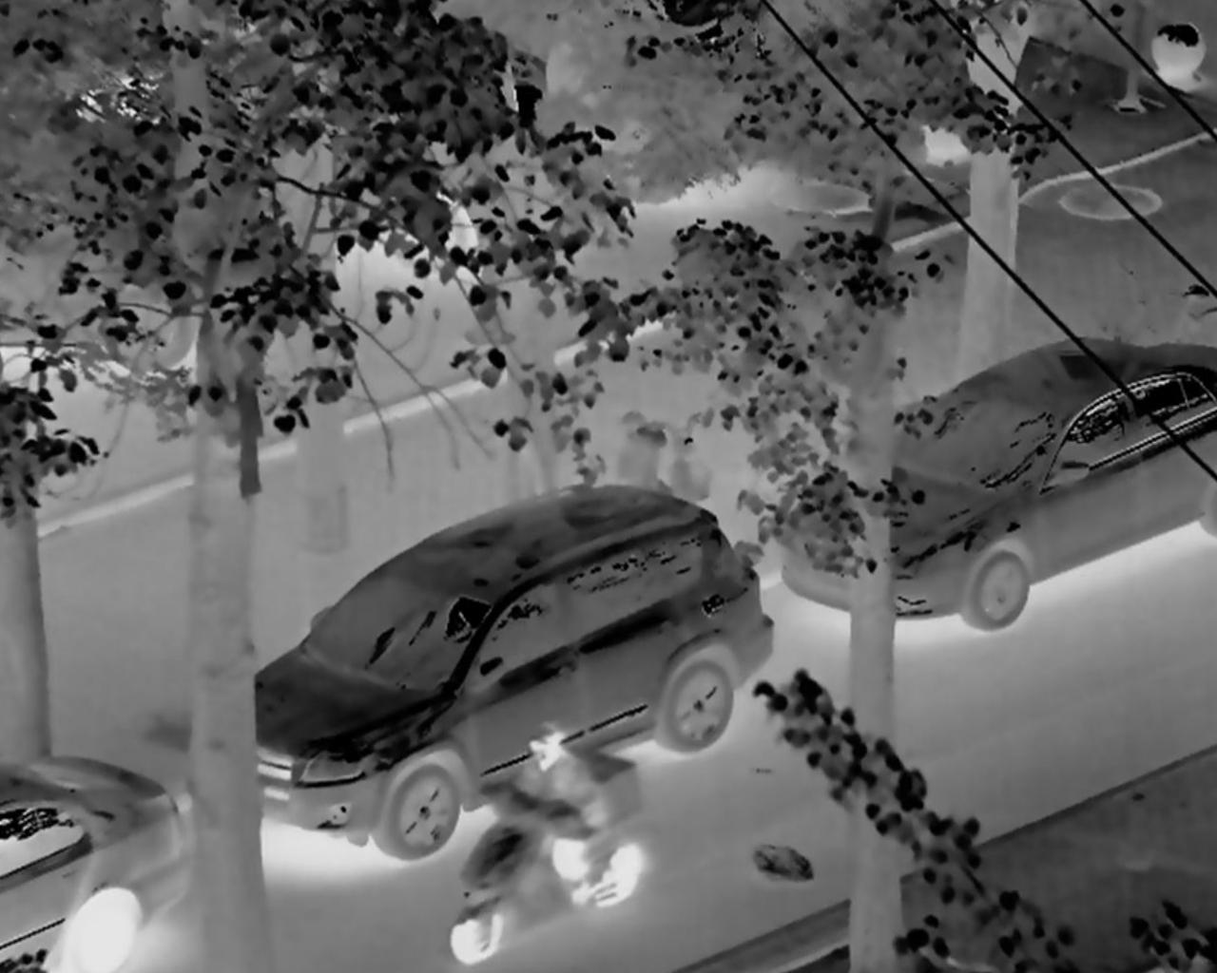person: (435, 706, 651, 947)
